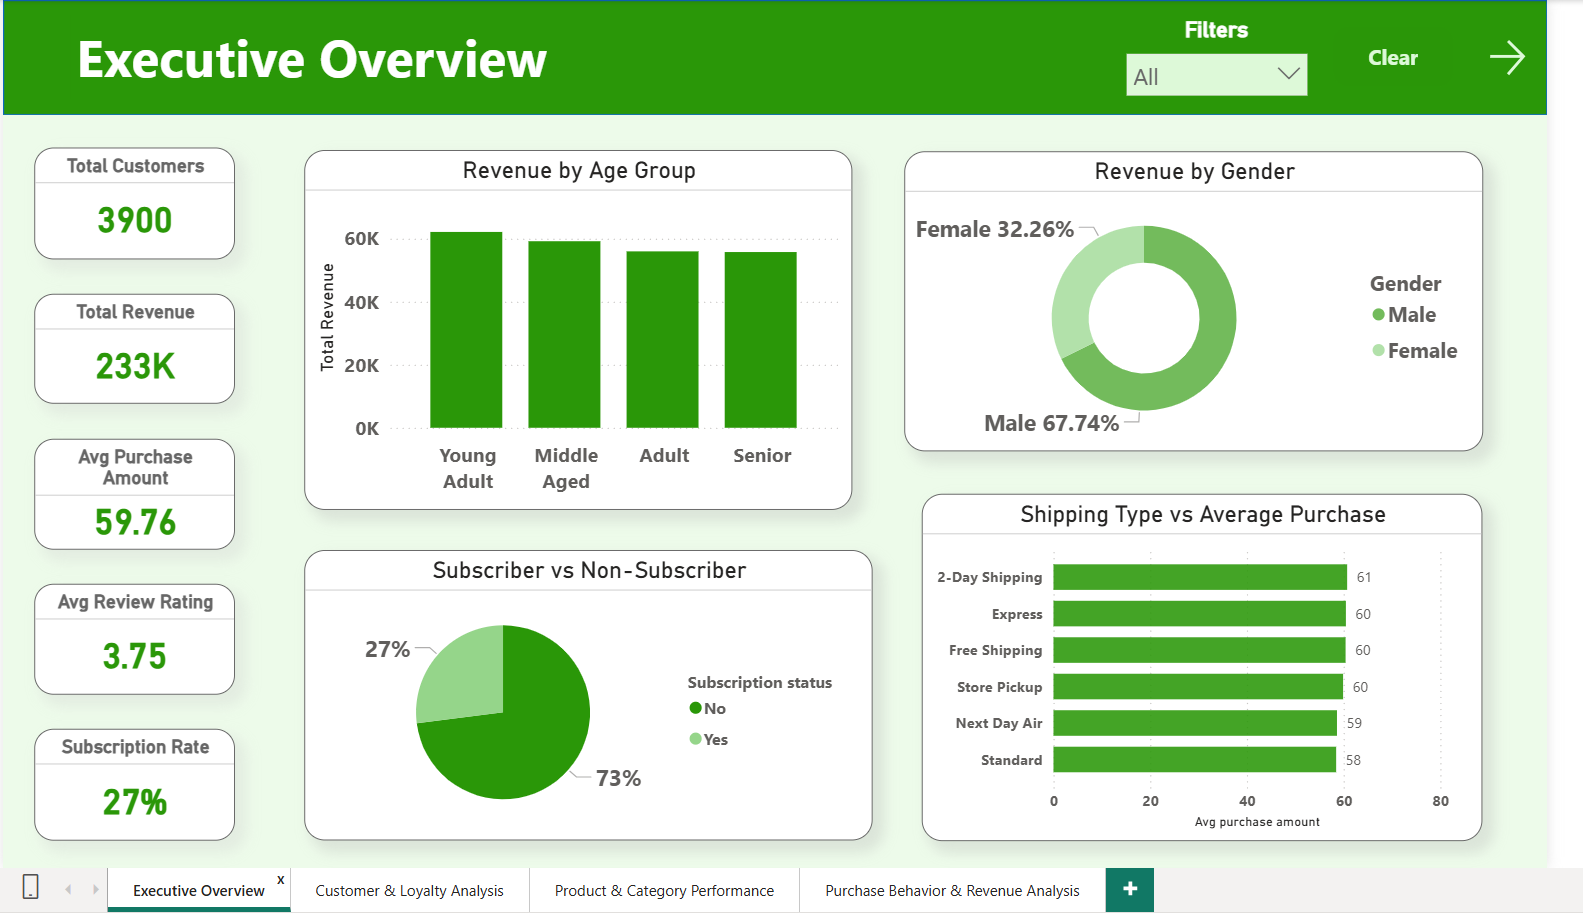

Layout of this report page (visuals, bound fields, positions):
{"tool":"powerbi","page":{"name":"Executive Overview","canvas":[1280,720],"ordinal":0},"visuals":[{"type":"card","title":"Total Customers","fields":{"Values":["customer_behaviour customer.No. of customers"]},"box":[25.8,122.7,166.7,92.4],"z":0},{"type":"card","title":"Total Revenue","fields":{"Values":["customer_behaviour customer.Total Revenue"]},"box":[25.8,243.8,166.7,90.9],"z":1000},{"type":"card","title":"Avg Purchase Amount","fields":{"Values":["customer_behaviour customer.Avg purchase amount"]},"box":[25.8,363.3,166.7,92],"z":2000},{"type":"card","title":"Avg Review Rating","fields":{"Values":["customer_behaviour customer.Avg review rating"]},"box":[25.8,483.9,166.7,92],"z":3000},{"type":"card","title":"Subscription Rate","fields":{"Values":["customer_behaviour customer.Subscription Rate"]},"box":[25.8,604.5,166.7,92.4],"z":4000},{"type":"shape","box":[0,0,1280.3,95.5],"z":5000},{"type":"textbox","box":[55.8,12.8,509.3,69.8],"z":6000},{"type":"columnChart","title":"Revenue by Age Group","fields":{"Category":["customer_behaviour customer.age_group"],"Y":["customer_behaviour customer.Total Revenue"]},"box":[250,124.2,454.5,298.5],"z":7000},{"type":"donutChart","title":"Revenue by Gender","fields":{"Category":["customer_behaviour customer.gender"],"Y":["customer_behaviour customer.Total Revenue"]},"box":[747,125.8,480.3,248.5],"z":8000},{"type":"pieChart","title":"Subscriber vs Non-Subscriber","fields":{"Category":["customer_behaviour customer.subscription_status"],"Y":["customer_behaviour customer.No. of customers"]},"box":[250,456.1,471.2,240.9],"z":9000},{"type":"clusteredBarChart","title":"Shipping Type vs Average Purchase","fields":{"Category":["customer_behaviour customer.shipping_type"],"Y":["customer_behaviour customer.Avg purchase amount"]},"box":[762.1,409.1,465.2,287.9],"z":10000},{"type":"slicer","title":"Filters","fields":{"Values":["customer_behaviour customer.age_group","customer_behaviour customer.gender","customer_behaviour customer.category","customer_behaviour customer.subscription_status"]},"box":[920.9,14,169.8,69.8],"z":11000},{"type":"actionButton","box":[1102.3,22.1,100,50],"z":12000},{"type":"actionButton","box":[1226.7,27.9,50,39.5],"z":13000}]}

Visuals, with their boxes on the page's 1280x720 design canvas (x1, y1, x2, y2). These are canvas units, not pixel positions in the 1583x913 screenshot, which may show the page scaled, cropped or inside an application window:
"Total Customers" card: <region>26, 123, 192, 215</region>
"Total Revenue" card: <region>26, 244, 192, 335</region>
"Avg Purchase Amount" card: <region>26, 363, 192, 455</region>
"Avg Review Rating" card: <region>26, 484, 192, 576</region>
"Subscription Rate" card: <region>26, 604, 192, 697</region>
shape: <region>0, 0, 1280, 96</region>
textbox: <region>56, 13, 565, 83</region>
"Revenue by Age Group" columnChart: <region>250, 124, 704, 423</region>
"Revenue by Gender" donutChart: <region>747, 126, 1227, 374</region>
"Subscriber vs Non-Subscriber" pieChart: <region>250, 456, 721, 697</region>
"Shipping Type vs Average Purchase" clusteredBarChart: <region>762, 409, 1227, 697</region>
"Filters" slicer: <region>921, 14, 1091, 84</region>
actionButton: <region>1102, 22, 1202, 72</region>
actionButton: <region>1227, 28, 1277, 67</region>
